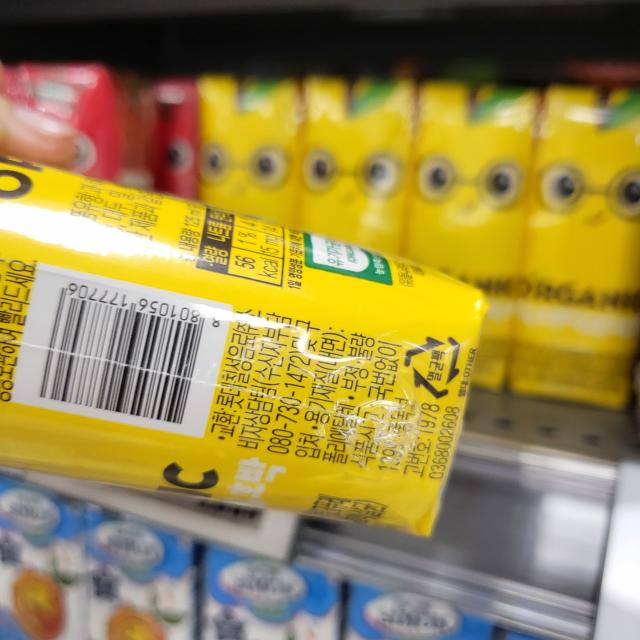SterilizedPack: (399, 332, 461, 397)
